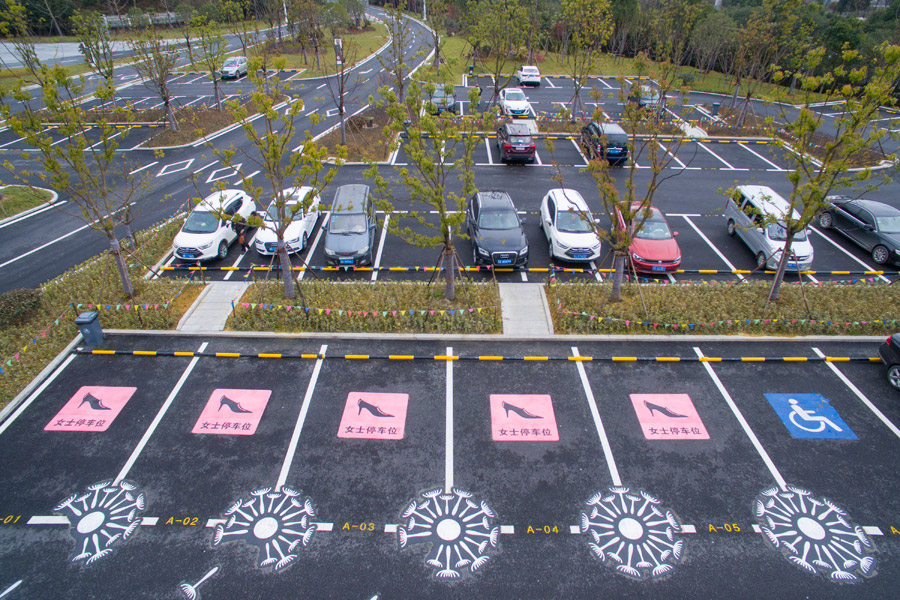empyt_space: (571, 346, 793, 521), (119, 348, 329, 510), (691, 337, 900, 495), (274, 350, 469, 510), (432, 350, 631, 502), (2, 346, 203, 493), (376, 201, 452, 285), (740, 132, 828, 179), (694, 133, 783, 177), (656, 133, 736, 175), (3, 123, 94, 155), (46, 122, 134, 153), (436, 125, 494, 170), (529, 131, 589, 173), (83, 123, 167, 153), (619, 131, 678, 173), (391, 126, 444, 170), (663, 96, 731, 128), (592, 97, 654, 128), (560, 94, 612, 130), (803, 97, 883, 117), (527, 93, 572, 126), (460, 101, 505, 131), (823, 106, 900, 123), (569, 71, 619, 97), (1, 123, 49, 148), (618, 73, 671, 93), (598, 70, 643, 93), (543, 70, 587, 93), (231, 64, 277, 85), (262, 68, 308, 88), (138, 68, 183, 87), (165, 72, 209, 88), (462, 72, 502, 89), (488, 75, 527, 92)
